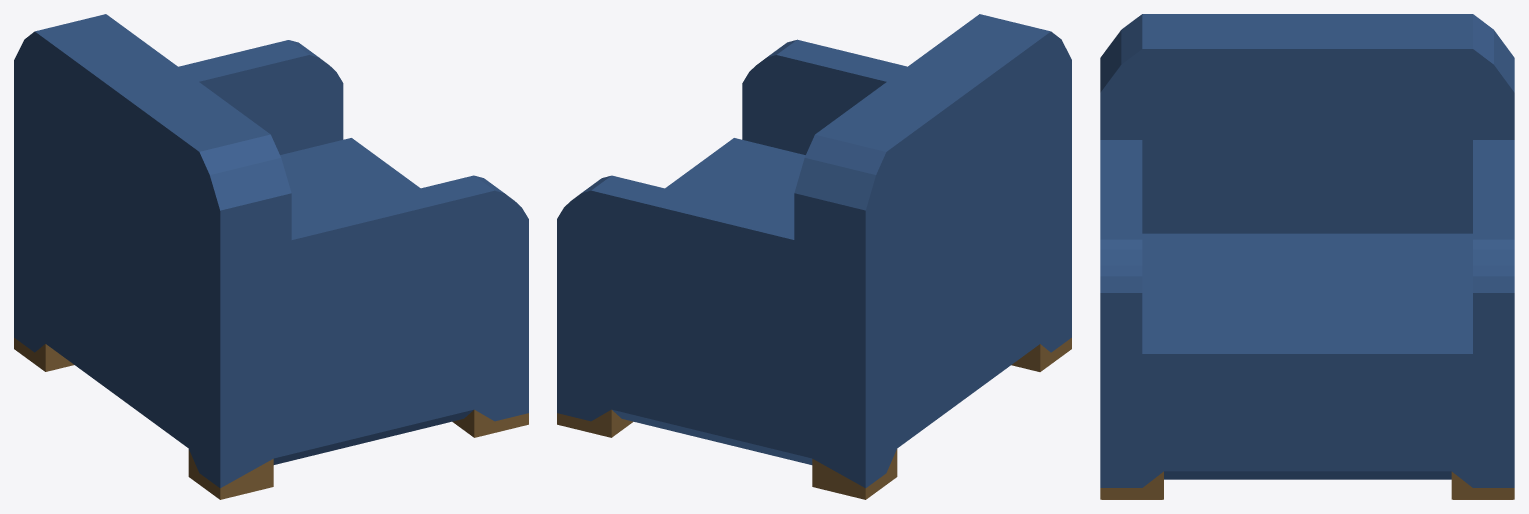
Rendered from Seat3.fbx.
The picture shows the model from 3 angles, left to right: view 1: azimuth 30°, elevation 25°; view 2: azimuth 150°, elevation 25°; view 3: azimuth 270°, elevation 25°; orthographic projection.
Parts seen in each view (by area): view 1: Cube; view 2: Cube; view 3: Cube.
Boxes of the visible parts, x1,y1,x2,y2 form: Cube: (14, 14, 528, 499); Cube: (557, 14, 1071, 499); Cube: (1100, 14, 1514, 499).
Bounding box in the file's own units: 178 × 180 × 200.
